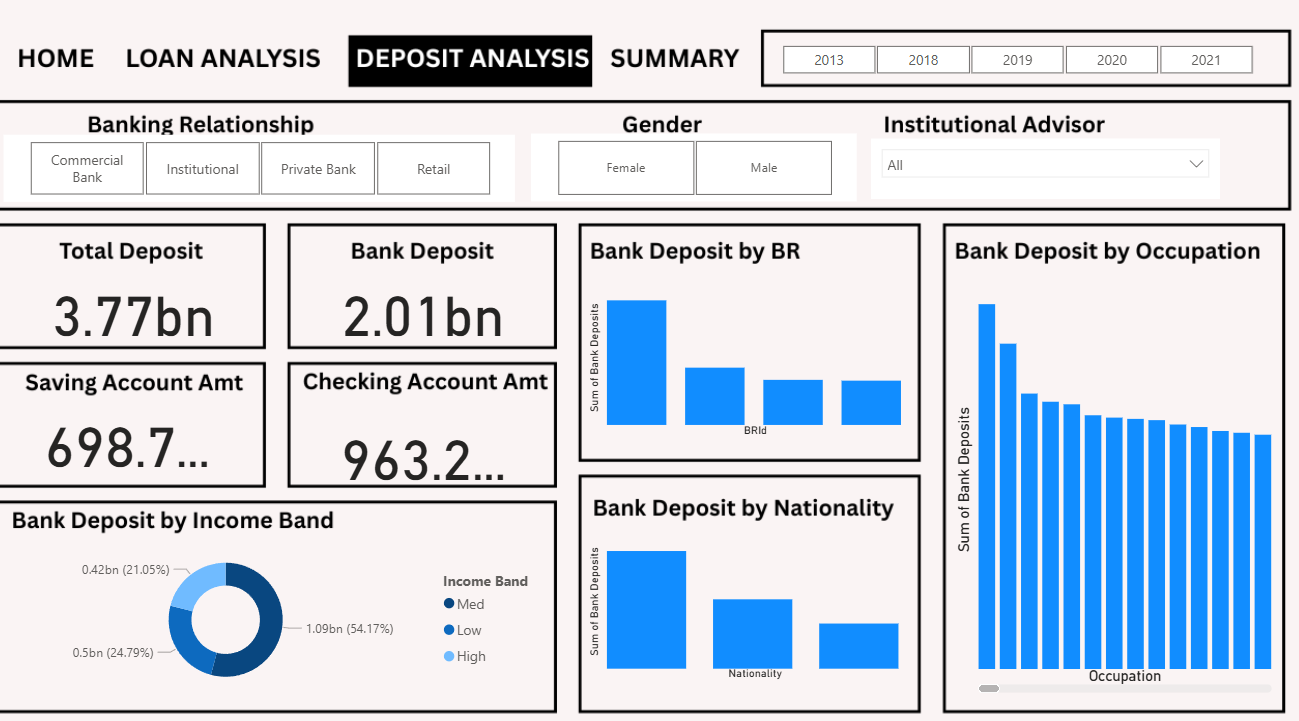

The dashboard page shown, as its layout file describes it:
{"tool":"powerbi","page":{"name":"Deposit Analysis","canvas":[1280,720],"ordinal":2},"visuals":[{"type":"slicer","fields":{"Values":["Banking.Year of Joining"]},"box":[748,55.5,503.1,38.6],"z":0},{"type":"actionButton","box":[22,53.7,100,40.2],"z":1000},{"type":"actionButton","box":[356.1,54.9,239,40.2],"z":2000},{"type":"actionButton","box":[607.3,56.1,140.2,40.2],"z":3000},{"type":"card","fields":{"Values":["Banking.Total Deposit"]},"box":[52.4,253.7,191.5,126.8],"z":4000},{"type":"card","fields":{"Values":["Sum(Banking.Bank Deposits)"]},"box":[337.8,253.7,178,126.8],"z":5000},{"type":"card","fields":{"Values":["Sum(Banking.Saving Accounts)"]},"box":[52.4,380.5,178,126.8],"z":6000},{"type":"card","fields":{"Values":["Sum(Banking.Checking Accounts)"]},"box":[337.8,392.7,178,126.8],"z":7000},{"type":"donutChart","fields":{"Category":["Banking.Income Band"],"Y":["Sum(Banking.Bank Deposits)"]},"box":[22,541.5,529.3,150],"z":8000},{"type":"columnChart","fields":{"Category":["Banking.BRId"],"Y":["Sum(Banking.Bank Deposits)"]},"box":[581.7,284.1,314.6,159.8],"z":9000},{"type":"clusteredColumnChart","fields":{"Category":["Banking.Nationality"],"Y":["Sum(Banking.Bank Deposits)"]},"box":[581.7,519.5,314.6,159.8],"z":10000},{"type":"clusteredColumnChart","fields":{"Category":["Banking.Occupation"],"Y":["Sum(Banking.Bank Deposits)"]},"box":[936.6,284.1,314.6,407.3],"z":11000},{"type":"slicer","fields":{"Values":["Banking.BRId"]},"box":[22,148.8,493.9,64.6],"z":12000},{"type":"slicer","fields":{"Values":["Banking.GenderId"]},"box":[530.5,147.6,314.6,65.9],"z":13000},{"type":"slicer","fields":{"Values":["Banking.IAId"]},"box":[858.5,152.4,336.6,58.5],"z":14000},{"type":"actionButton","box":[355.9,55.5,238.9,48.3],"z":14001}]}

Visuals, with their boxes in screenshot pixels (x1, y1, x2, y2), scaled from the page's 1280x720 canvas onto the 1299x721 screenshot:
slicer - Banking.Year of Joining: locate(759, 56, 1270, 94)
actionButton: locate(22, 54, 124, 94)
actionButton: locate(361, 55, 604, 95)
actionButton: locate(616, 56, 759, 96)
card - Banking.Total Deposit: locate(53, 254, 248, 381)
card - Sum(Banking.Bank Deposits): locate(343, 254, 523, 381)
card - Sum(Banking.Saving Accounts): locate(53, 381, 234, 508)
card - Sum(Banking.Checking Accounts): locate(343, 393, 523, 520)
donutChart - Banking.Income Band x Sum(Banking.Bank Deposits): locate(22, 542, 559, 692)
columnChart - Banking.BRId x Sum(Banking.Bank Deposits): locate(590, 284, 910, 445)
clusteredColumnChart - Banking.Nationality x Sum(Banking.Bank Deposits): locate(590, 520, 910, 680)
clusteredColumnChart - Banking.Occupation x Sum(Banking.Bank Deposits): locate(951, 284, 1270, 692)
slicer - Banking.BRId: locate(22, 149, 524, 214)
slicer - Banking.GenderId: locate(538, 148, 858, 214)
slicer - Banking.IAId: locate(871, 153, 1213, 211)
actionButton: locate(361, 56, 604, 104)
